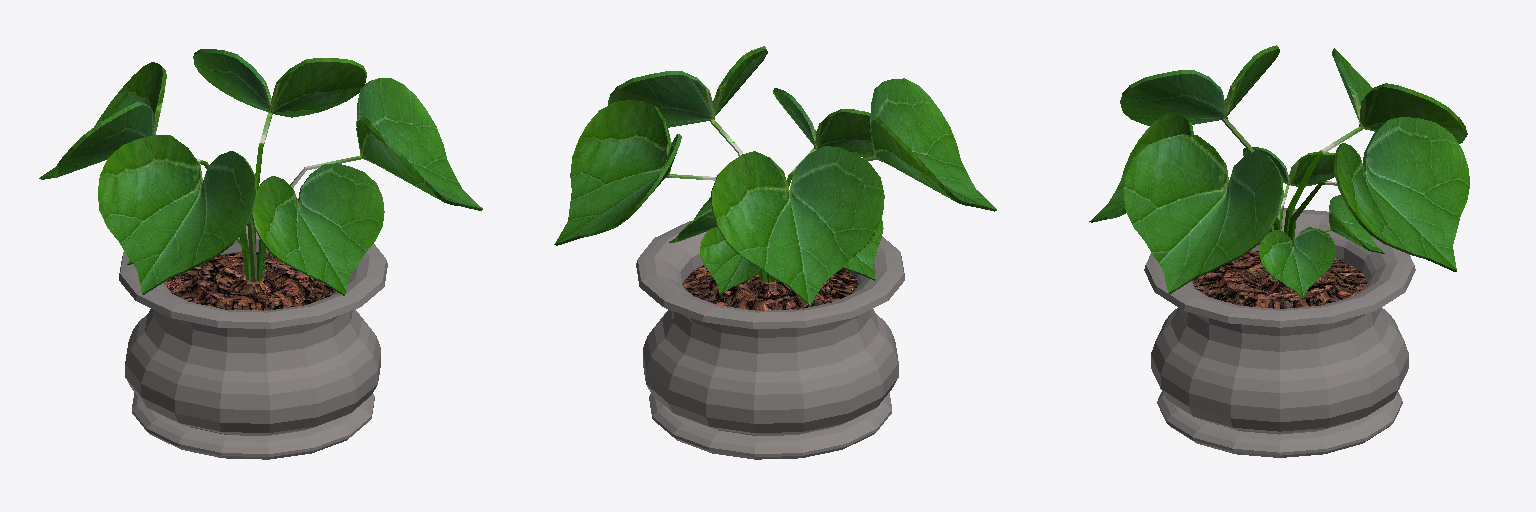
3 views of the same model, side by side, from view 1: azimuth 30°, elevation 25°; view 2: azimuth 150°, elevation 25°; view 3: azimuth 270°, elevation 25° (orthographic).
Parts seen in each view (by area): view 1: Mesh10 potplant_dxf1 Model, Mesh7 potplant_dxf1 Model, Mesh6 potplant_dxf1 Model, Mesh4 potplant_dxf1 Model, Mesh2 potplant_dxf1 Model, Mesh9 potplant_dxf1 Model; view 2: Mesh10 potplant_dxf1 Model, Mesh9 potplant_dxf1 Model, Mesh2 potplant_dxf1 Model, Mesh7 potplant_dxf1 Model, Mesh4 potplant_dxf1 Model, Mesh6 potplant_dxf1 Model, Mesh1 potplant_dxf1 Model, Mesh8 potplant_dxf1 Model, Mesh3 potplant_dxf1 Model; view 3: Mesh10 potplant_dxf1 Model, Mesh4 potplant_dxf1 Model, Mesh2 potplant_dxf1 Model, Mesh7 potplant_dxf1 Model, Mesh9 potplant_dxf1 Model, Mesh3 potplant_dxf1 Model, Mesh6 potplant_dxf1 Model, Mesh8 potplant_dxf1 Model, Mesh1 potplant_dxf1 Model.
Boxes of the visible parts, x1=… form: Mesh10 potplant_dxf1 Model: x1=119, y1=226, x2=387, y2=459; Mesh7 potplant_dxf1 Model: x1=98, y1=135, x2=257, y2=294; Mesh6 potplant_dxf1 Model: x1=252, y1=163, x2=384, y2=295; Mesh4 potplant_dxf1 Model: x1=263, y1=78, x2=482, y2=258; Mesh2 potplant_dxf1 Model: x1=193, y1=49, x2=366, y2=243; Mesh9 potplant_dxf1 Model: x1=39, y1=62, x2=250, y2=279; Mesh10 potplant_dxf1 Model: x1=636, y1=221, x2=904, y2=459; Mesh9 potplant_dxf1 Model: x1=711, y1=146, x2=884, y2=305; Mesh2 potplant_dxf1 Model: x1=554, y1=100, x2=767, y2=281; Mesh7 potplant_dxf1 Model: x1=863, y1=78, x2=996, y2=211; Mesh4 potplant_dxf1 Model: x1=608, y1=46, x2=767, y2=155; Mesh6 potplant_dxf1 Model: x1=773, y1=88, x2=873, y2=186; Mesh1 potplant_dxf1 Model: x1=700, y1=227, x2=770, y2=294; Mesh8 potplant_dxf1 Model: x1=775, y1=218, x2=883, y2=280; Mesh3 potplant_dxf1 Model: x1=669, y1=197, x2=761, y2=280; Mesh10 potplant_dxf1 Model: x1=1144, y1=208, x2=1415, y2=457; Mesh4 potplant_dxf1 Model: x1=1124, y1=134, x2=1283, y2=294; Mesh2 potplant_dxf1 Model: x1=1288, y1=117, x2=1469, y2=271; Mesh7 potplant_dxf1 Model: x1=1120, y1=45, x2=1279, y2=231; Mesh9 potplant_dxf1 Model: x1=1284, y1=48, x2=1467, y2=234; Mesh3 potplant_dxf1 Model: x1=1259, y1=227, x2=1335, y2=297; Mesh6 potplant_dxf1 Model: x1=1089, y1=114, x2=1274, y2=279; Mesh8 potplant_dxf1 Model: x1=1243, y1=147, x2=1334, y2=229; Mesh1 potplant_dxf1 Model: x1=1324, y1=195, x2=1384, y2=253.
Bounding box in the file's own units: 21.57 × 18.45 × 20.72.
Materials: 7 (3 with a texture image).